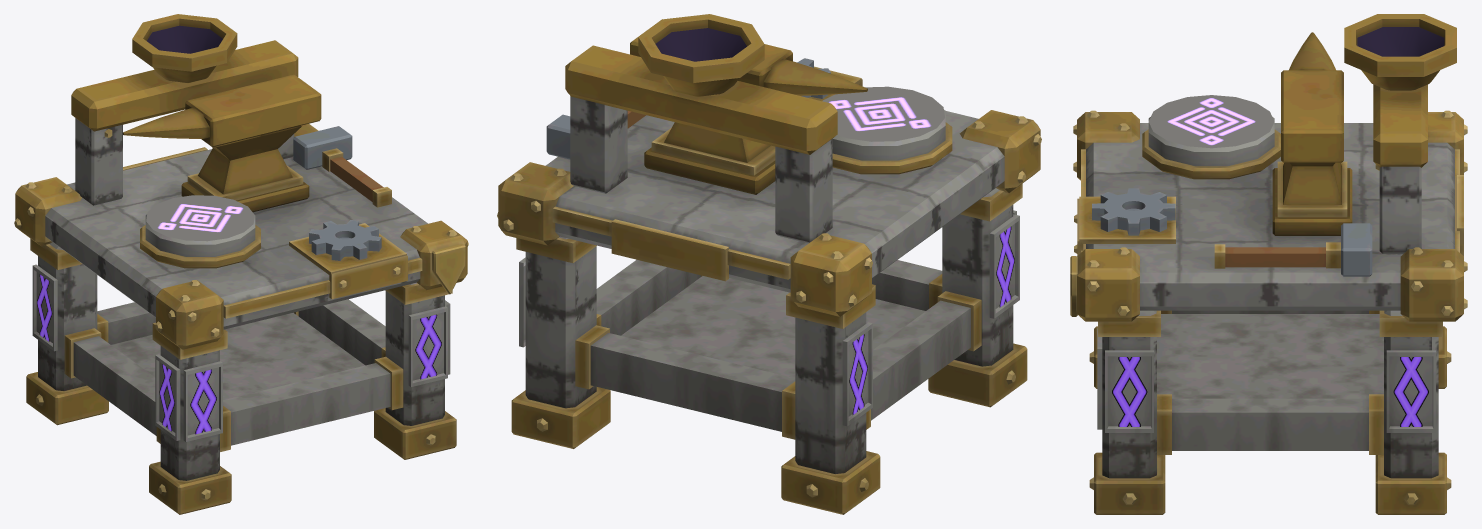
Rendered from artificer_bench.glb.
3 views of the same model, side by side, from view 1: azimuth 30°, elevation 25°; view 2: azimuth 150°, elevation 25°; view 3: azimuth 270°, elevation 25° (orthographic). The views are drawn at different scales.
Parts seen in each view (by area): view 1: bench_body, glow_runes_disc, anim_drill_circle, glow_runes; view 2: bench_body, glow_runes_disc, anim_drill_circle, glow_runes; view 3: bench_body, glow_runes_disc, anim_drill_circle, glow_runes.
Part boxes in pixels (<box>): bench_body: <box>14,14,468,514</box>; glow_runes_disc: <box>146,195,254,241</box>; anim_drill_circle: <box>140,214,260,268</box>; glow_runes: <box>37,274,441,434</box>; bench_body: <box>497,14,1041,514</box>; glow_runes_disc: <box>822,86,944,141</box>; anim_drill_circle: <box>832,110,952,174</box>; glow_runes: <box>849,226,1014,414</box>; bench_body: <box>1070,14,1467,514</box>; glow_runes_disc: <box>1148,95,1274,148</box>; anim_drill_circle: <box>1142,117,1280,179</box>; glow_runes: <box>1112,357,1428,426</box>.
Bounding box in the file's own units: 0.938 × 1.05 × 0.945.
4 materials, 3 textured.
